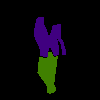jeans: (37, 51, 58, 94)
maglione: (34, 16, 66, 57)
